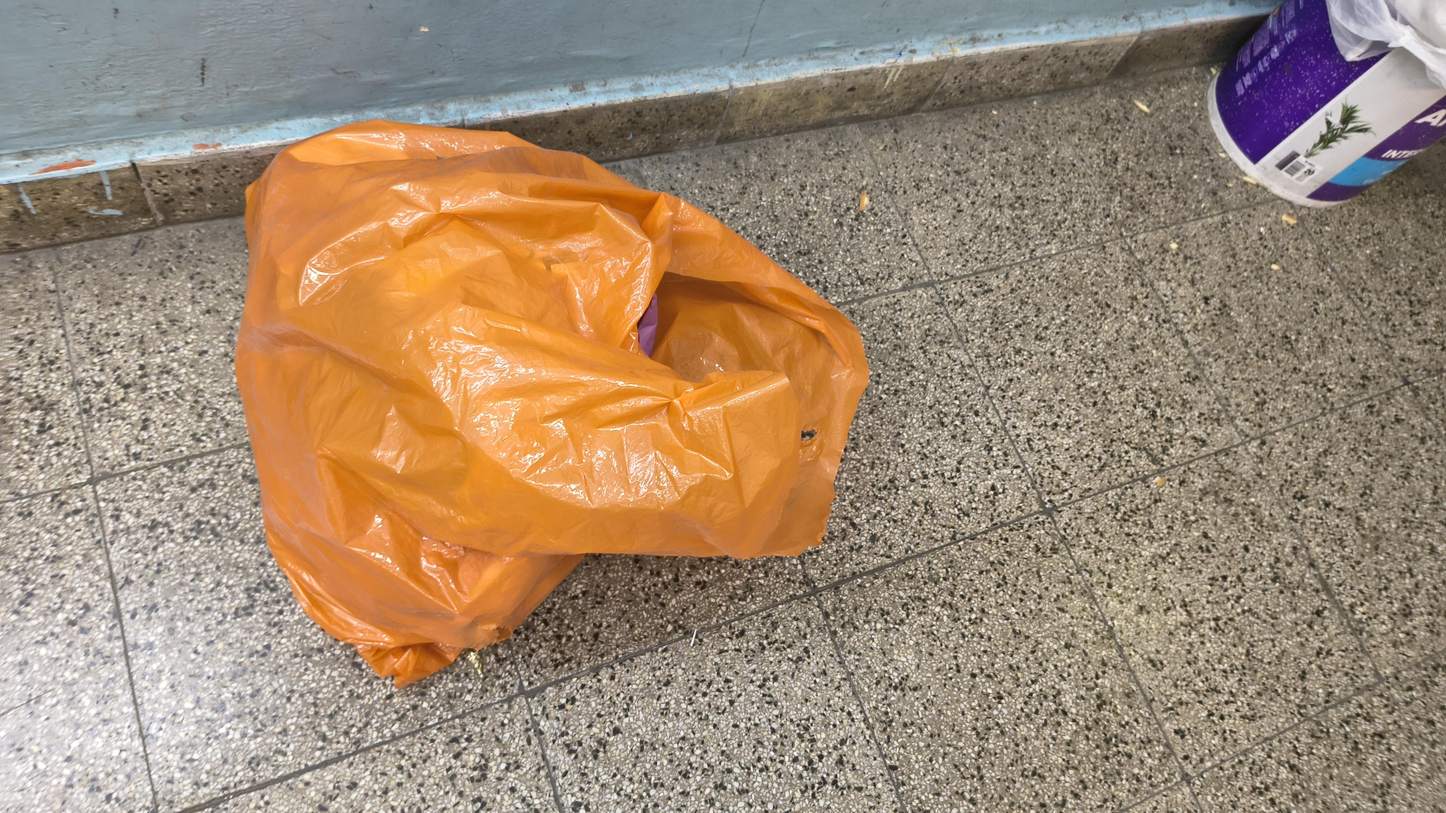Garbage: (214, 99, 957, 715)
